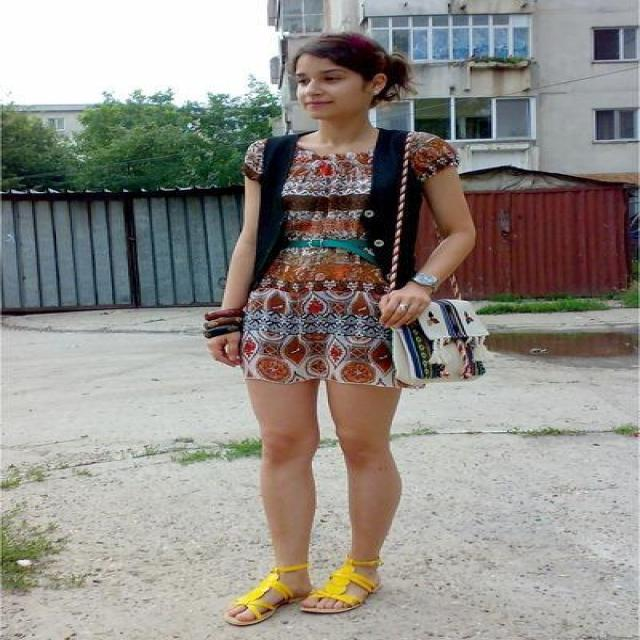bag: (370, 294, 490, 396)
dress: (212, 140, 478, 386)
jacket: (250, 128, 428, 291)
shoe: (229, 564, 365, 626)
